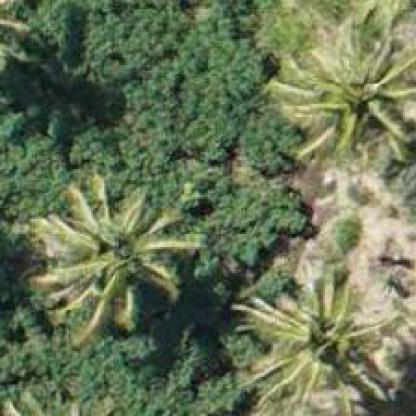coconut tree: (24, 172, 207, 352), (229, 254, 407, 414), (264, 11, 414, 171)
